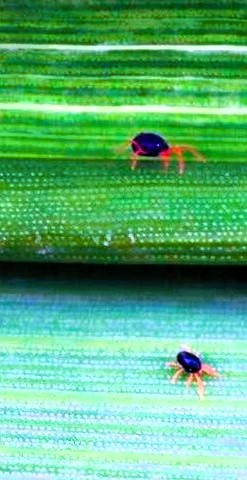Wheat Red Spider: (110, 114, 211, 182), (154, 333, 230, 407)
